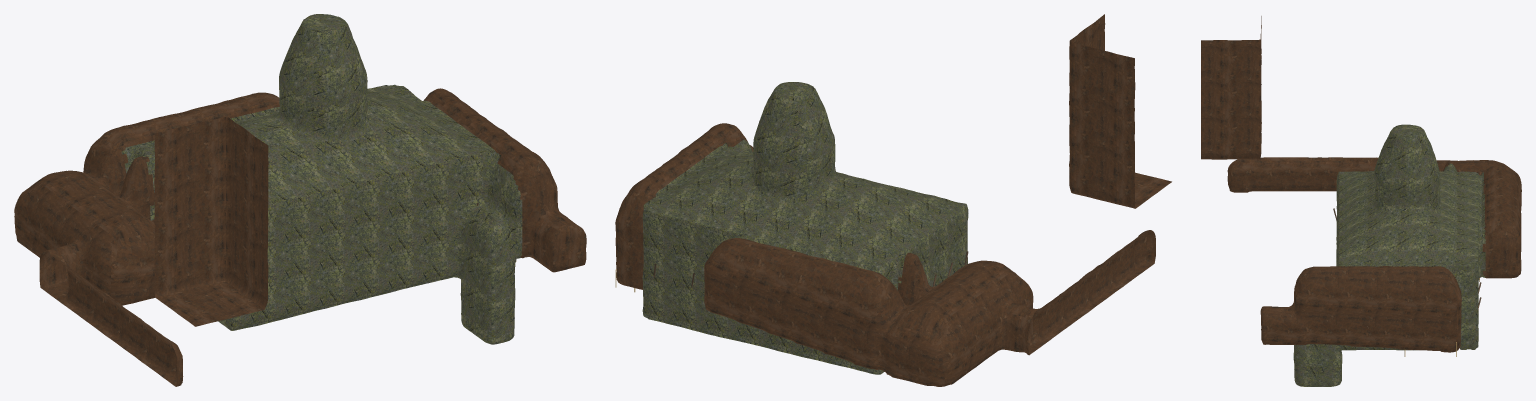
Rendered from earth-root-terrace.glb.
3 renders of one model, left to right at view 1: azimuth 30°, elevation 25°; view 2: azimuth 150°, elevation 25°; view 3: azimuth 270°, elevation 25°, orthographic. The views are drawn at different scales.
Visible parts, largest first — view 1: ET_Rock_Pit, ET_Rock_Route; view 2: ET_Rock_Route, ET_Rock_Pit; view 3: ET_Rock_Route, ET_Rock_Pit.
Part boxes in pixels (bbox=[...]): ET_Rock_Pit: bbox=[121, 14, 522, 344]; ET_Rock_Route: bbox=[14, 88, 586, 386]; ET_Rock_Route: bbox=[615, 14, 1171, 386]; ET_Rock_Pit: bbox=[642, 82, 968, 374]; ET_Rock_Route: bbox=[1201, 16, 1521, 352]; ET_Rock_Pit: bbox=[1293, 124, 1485, 386].
Bounding box in the file's own units: 36.85 × 25.68 × 31.77.
8 materials, 2 textured.
